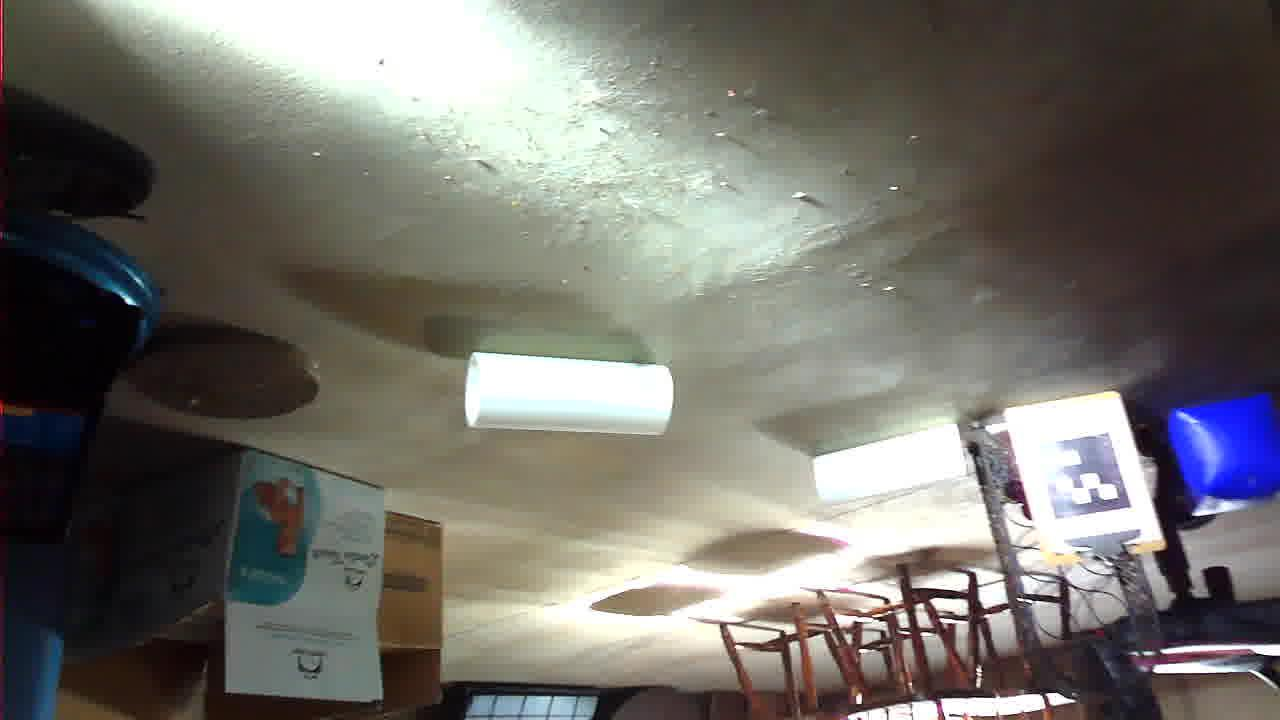coral: (606, 284, 815, 368), (317, 222, 477, 294), (601, 276, 602, 277)
